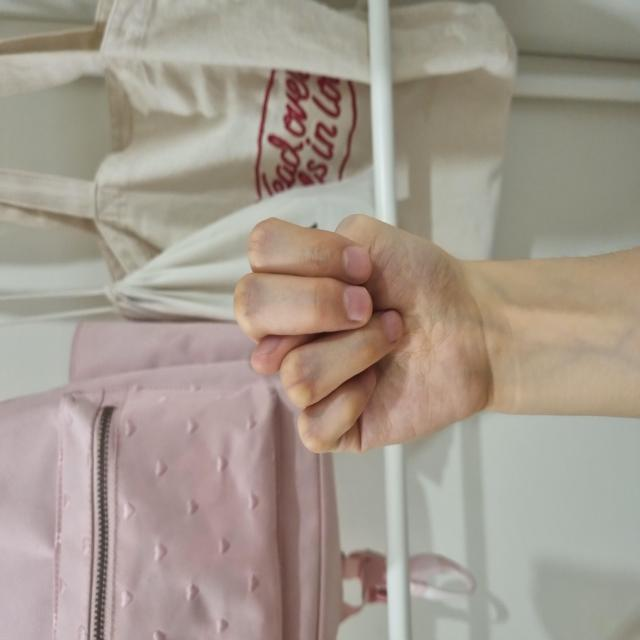N: (185, 232, 429, 494)
